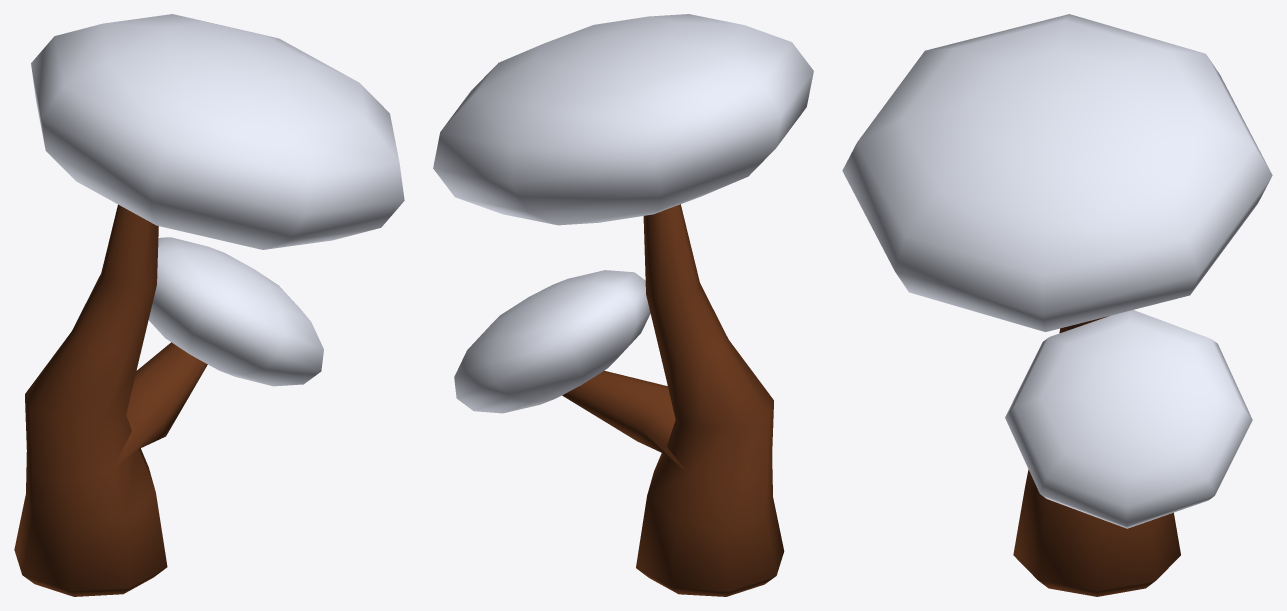
The model's file is tree-c3.glb.
3 renders of one model, left to right at view 1: azimuth 30°, elevation 25°; view 2: azimuth 150°, elevation 25°; view 3: azimuth 270°, elevation 25°, orthographic. The views are drawn at different scales.
Visible parts, largest first — view 1: tree-33.col; view 2: tree-33.col; view 3: tree-33.col.
Boxes of the visible parts, left/top/right/bottom form: tree-33.col: left=14, top=14, right=404, bottom=596; tree-33.col: left=433, top=14, right=813, bottom=596; tree-33.col: left=842, top=14, right=1272, bottom=596.
Bounding box in the file's own units: 0.736 × 1.06 × 0.7488.
1 material, 1 textured.
